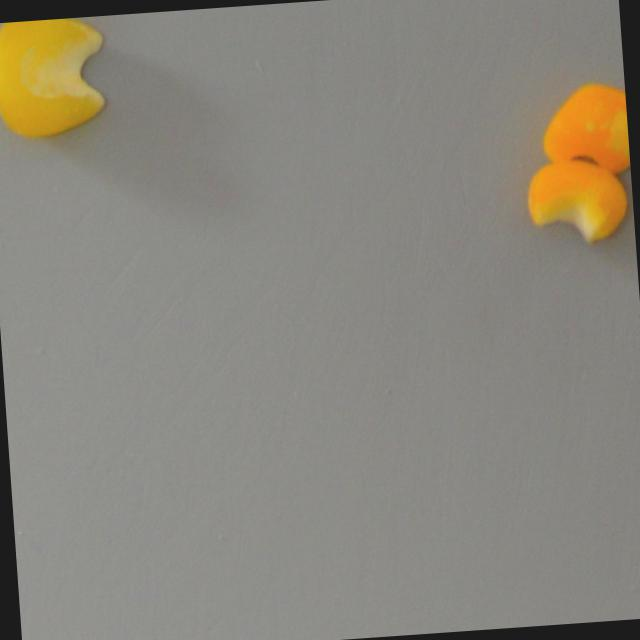no_canjicado: (0, 14, 113, 139), (524, 157, 628, 251), (538, 80, 630, 173)
